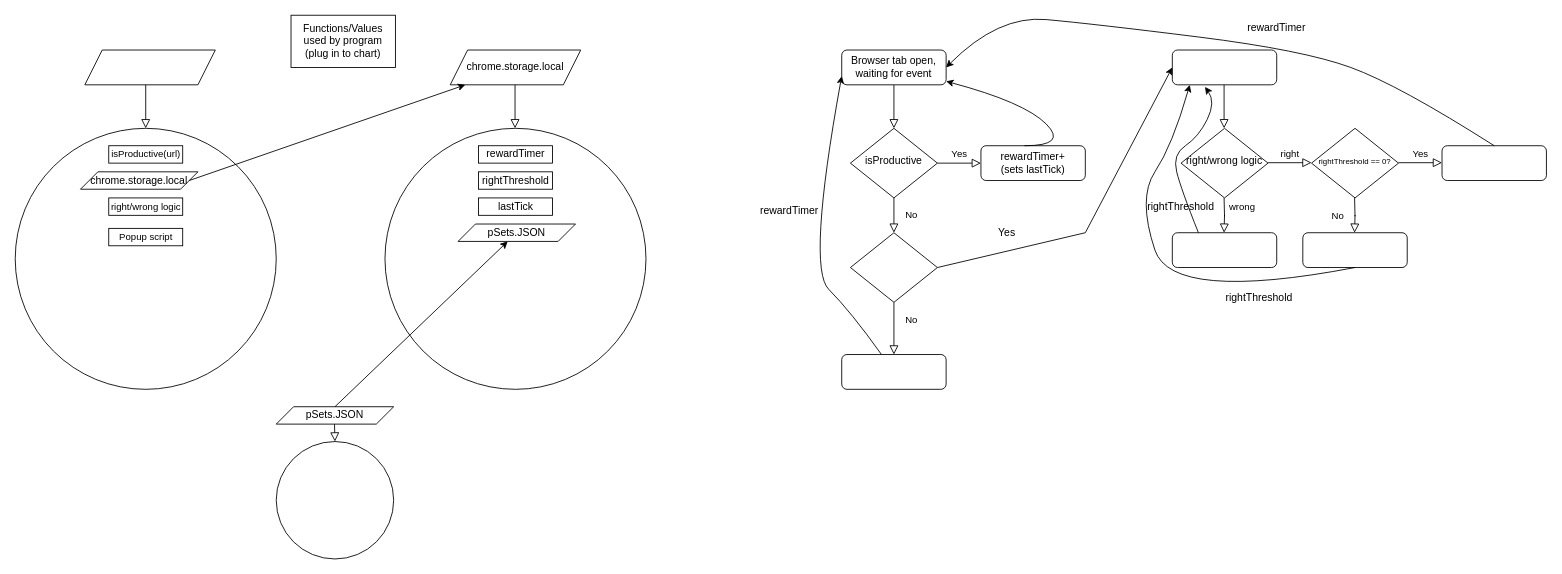
This 1562x574 diagram has some shape labels left out. Here are the shapes that lost their labels. From the top down, the box of each, then its label:
(84, 49, 215, 85): Extension folder
(1171, 49, 1277, 85): Problem popup (pSets.json & popup script)
(1441, 145, 1546, 181): Problem disappear, rewardTimer+ (sets lastTick)
(850, 232, 937, 302): rewardTimer == 0?
(1171, 232, 1277, 268): rightThreshold++
(1302, 232, 1407, 268): rightThreshold--
(841, 354, 946, 389): rewardTimer- (sets lastTick)
(275, 441, 394, 559): problem sets
